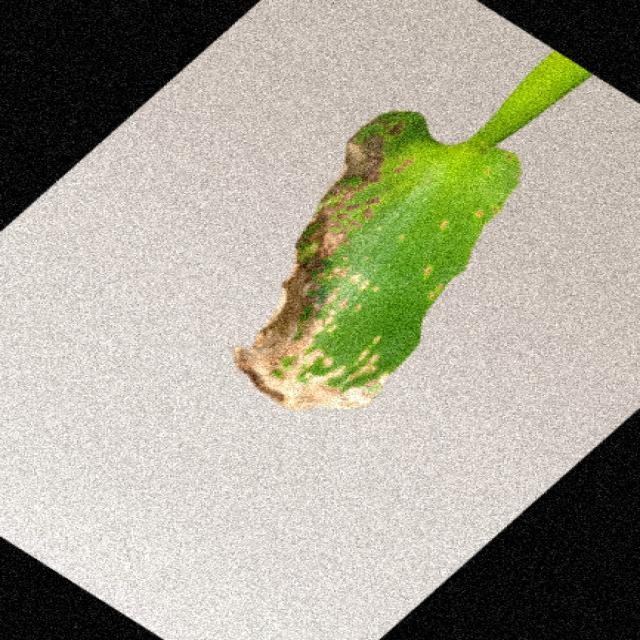daun berpenyakit bercak: (233, 52, 590, 410)
